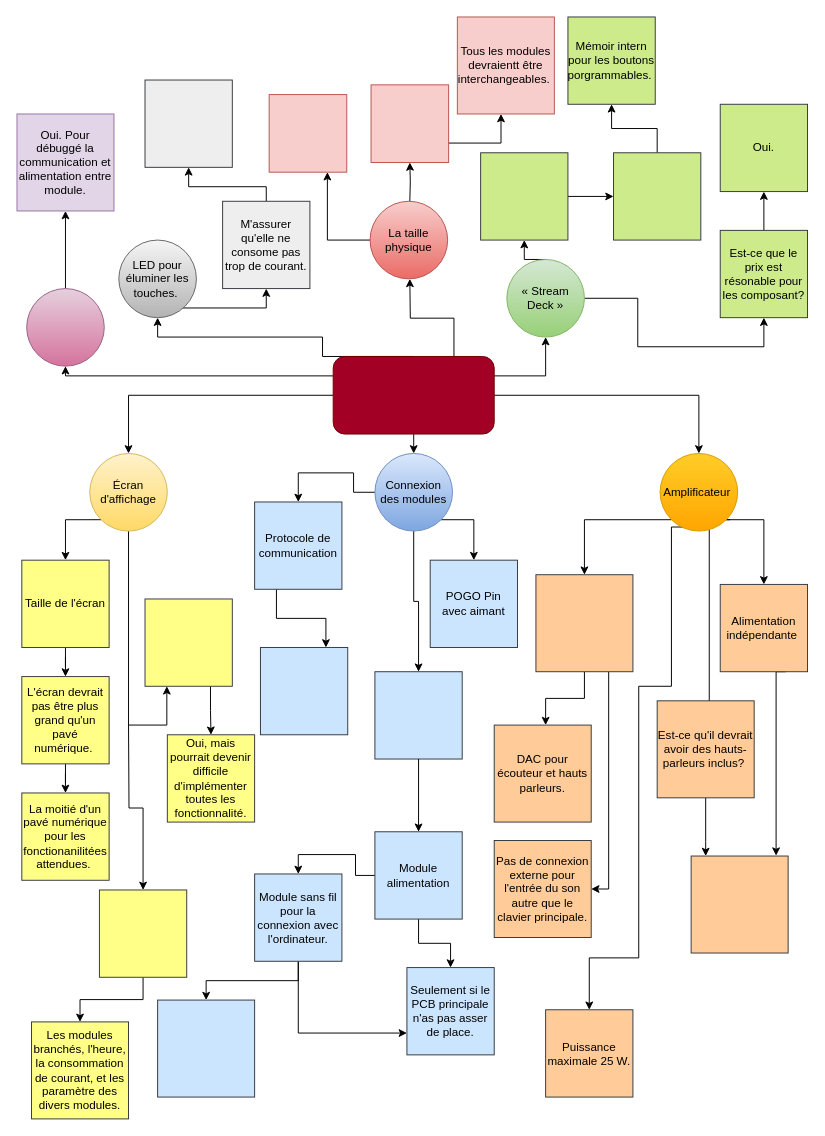
This 825x1136 diagram has some shape labels left out. Here are the shapes that lost their labels. From the top down, the box of each, then its label:
(144, 79, 232, 167): Juste des LED blanche pas programmables.
(268, 94, 347, 172): Aucun module ne doit être plus grand qu'un pavé numérique.
(370, 84, 449, 162): Suivre les tailles standard d'une feuille de papier A.
(480, 152, 568, 240): Six boutons minimum.
(613, 152, 701, 240): Boutons programmables avec un écran.
(26, 288, 104, 366): Le pavé numérique
(332, 356, 494, 434): Clavier modulaire A4
(144, 598, 232, 686): Est-ce que l'écran devrait être programmable par l'utilisateur.
(535, 574, 633, 672): Connexions externe
(259, 647, 348, 735): Filaire entre module
(374, 671, 462, 759): Gestion de l'alimentation
(690, 855, 788, 953): Non.
(98, 889, 187, 977): Qu'est ce que l'écran devrait afficher?
(157, 999, 255, 1097): Clavier fonctionne tout le temp en sans fil, mais doit être branché.
